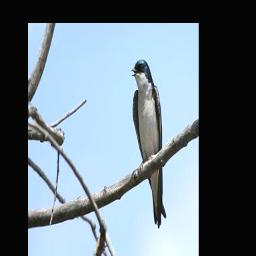Swallow: (131, 59, 167, 228)
